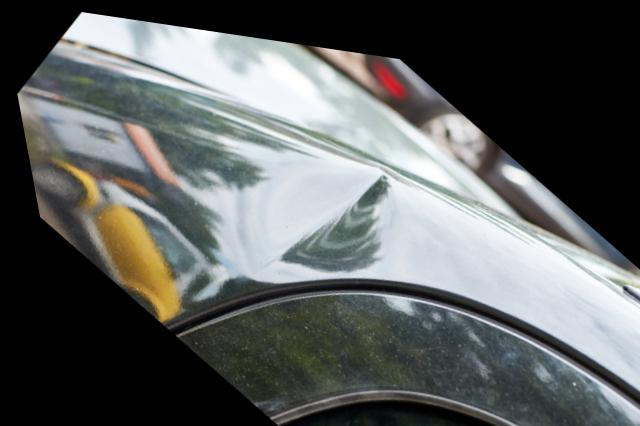dent: (223, 150, 391, 276)
